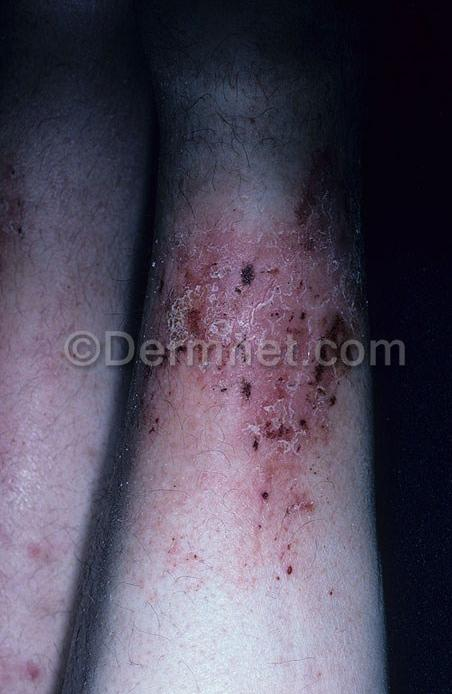Eritema 2: (132, 211, 360, 593)
exudacion 1: (163, 260, 357, 525)
xerosis 1: (155, 270, 335, 471)
